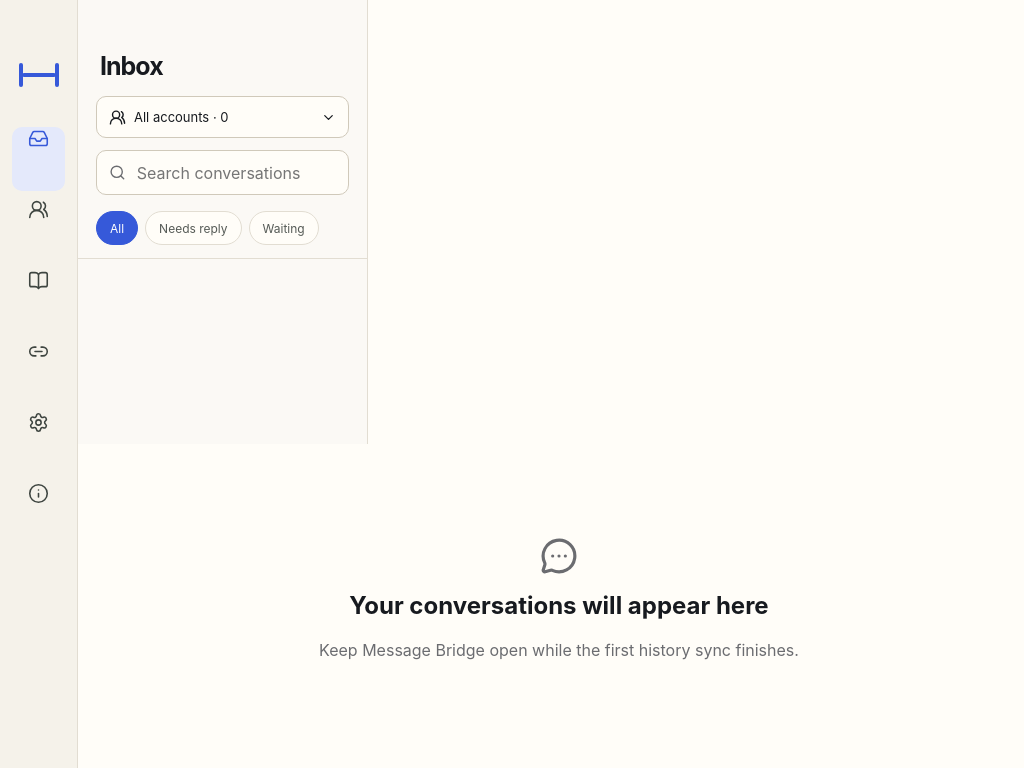
App › requires a new credential when the user changes provider
The image size is (1024, 768).
Click the 5th button named "Settings" at (38, 443), box [12,411,65,475]
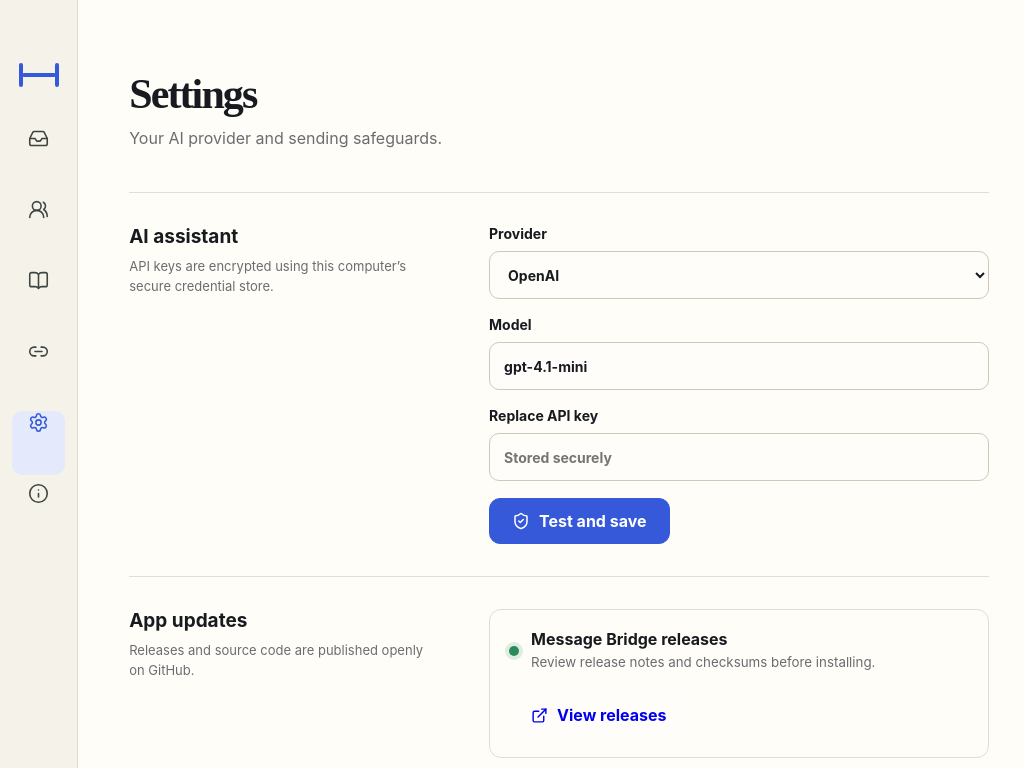
Select "Anthropic" in the dropdown labelled "Provider" at (739, 275), box [489,251,989,299]
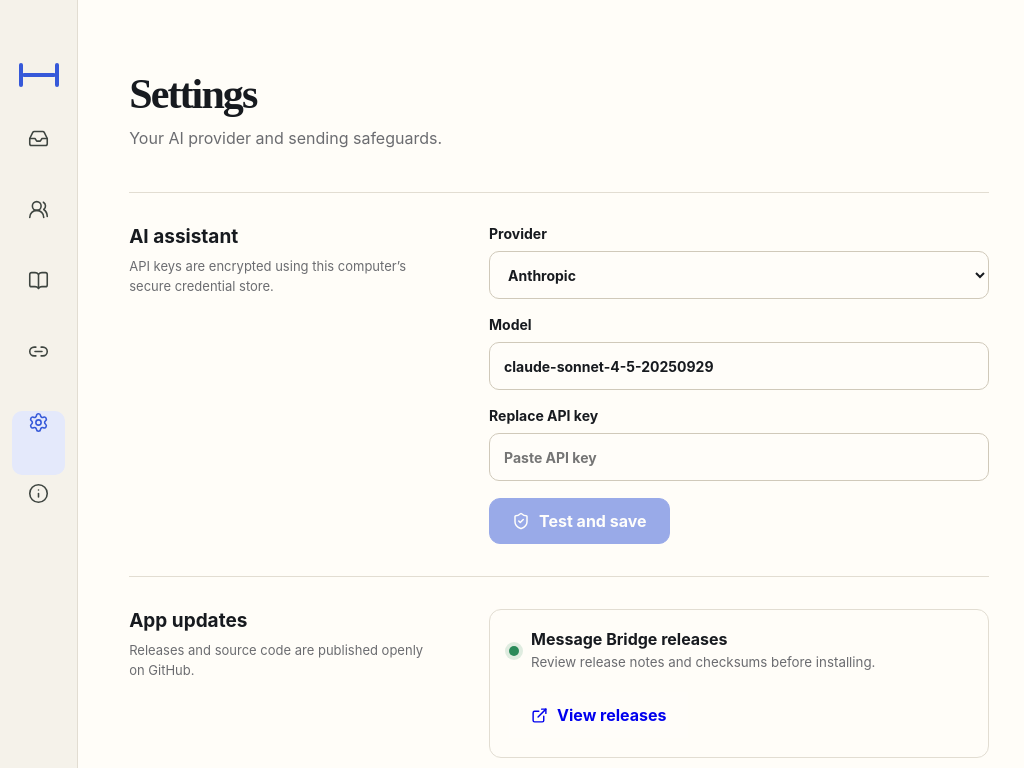
Expected: the button "Test and save" is disabled, [489,498,670,544]
